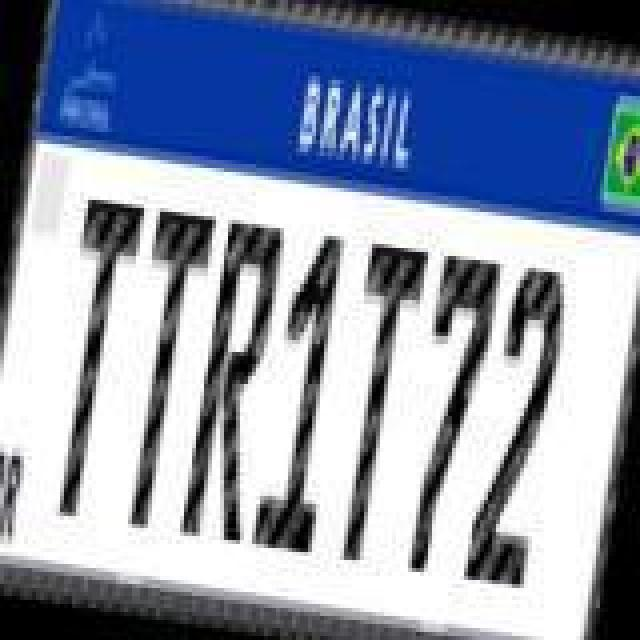1: (246, 226, 362, 558)
2: (462, 256, 578, 592)
7: (390, 250, 506, 582)
R: (174, 212, 290, 548)
T: (320, 236, 432, 572), (36, 194, 148, 526), (104, 202, 216, 534)
